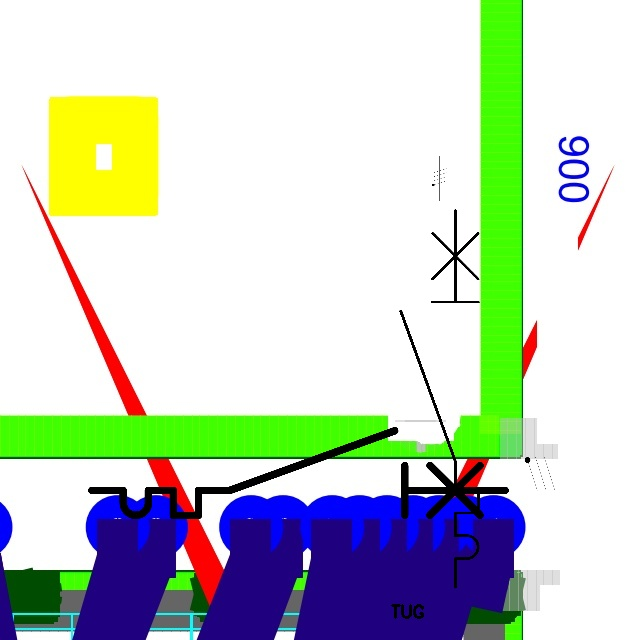interruptor_termomagnetico: (81, 420, 515, 526), (391, 200, 488, 596)
